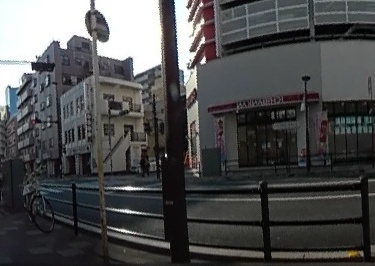person: (140, 151, 151, 175)
